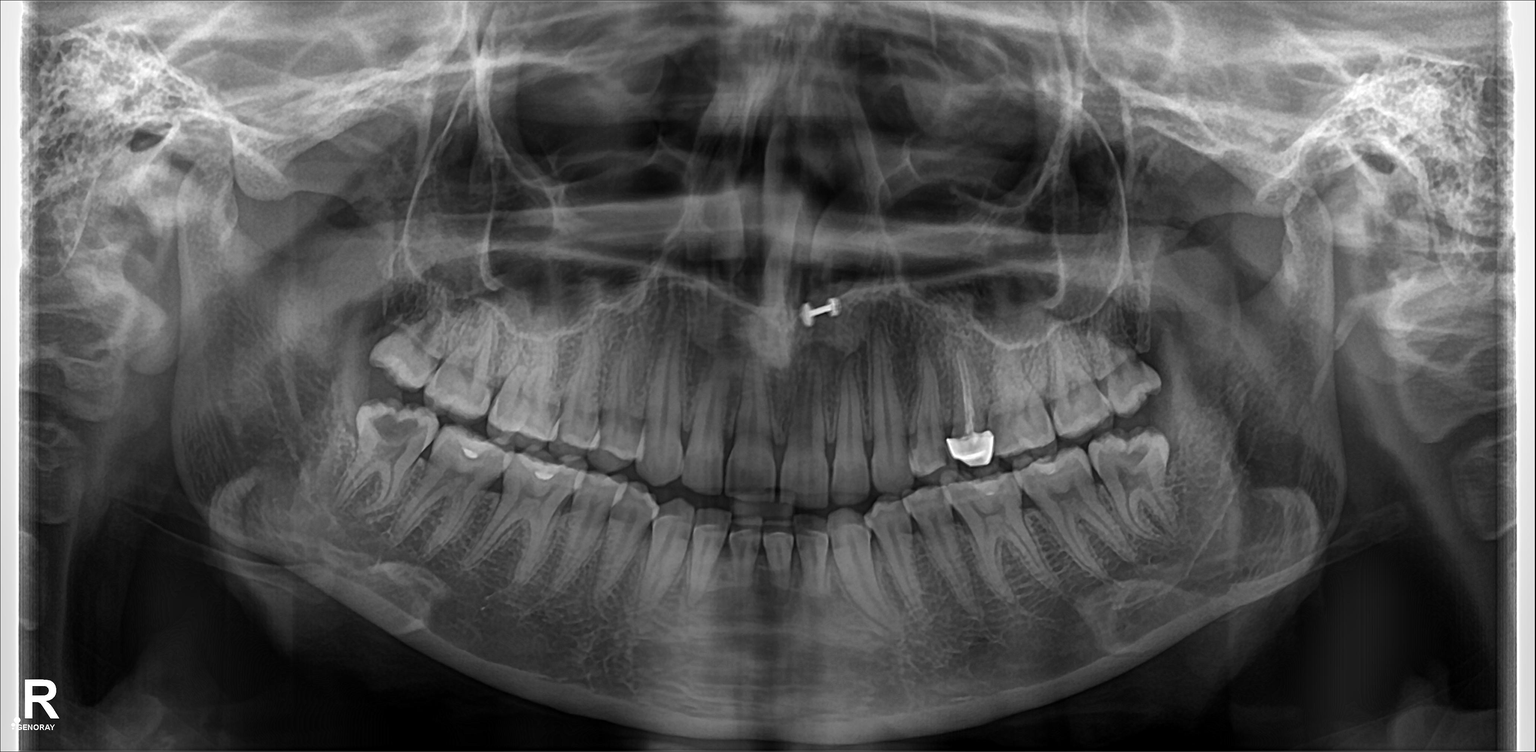Dental Caries: (1097, 449, 1158, 496), (369, 404, 420, 448), (1043, 469, 1089, 515)
Endodontically Treated Tooth: (944, 352, 995, 465)
